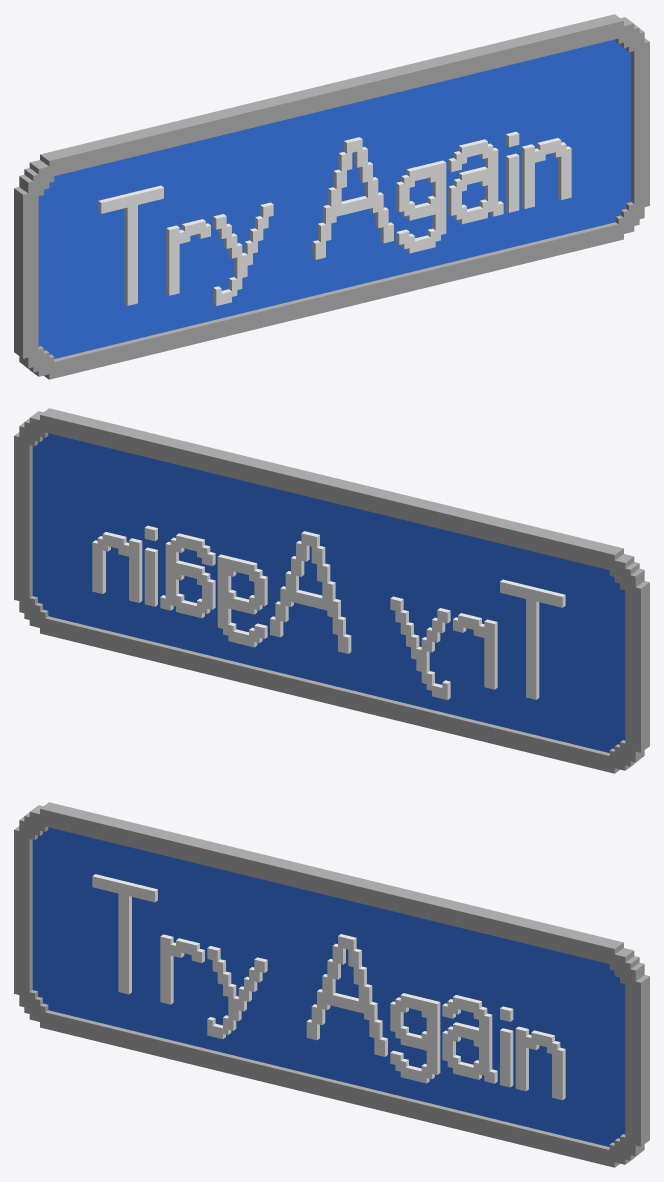
The model's file is Try Again.obj.
The picture shows the model from 3 angles, top to bottom: view 1: azimuth 30°, elevation 25°; view 2: azimuth 150°, elevation 25°; view 3: azimuth 330°, elevation 25°; orthographic projection.
Bounding box in the file's own units: 12 × 4 × 0.3.
1 material, 1 textured.
